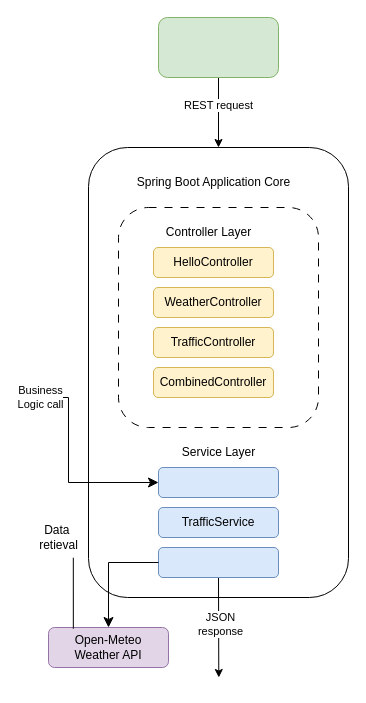
The diagram is 366 pixels wide and 703 high, and some of its shapes have lost their labels. Here are the shapes that lost their labels. From the top down, the box of each, then its label:
(158, 16, 278, 78): User/Frontend
(158, 466, 278, 498): WeatherService
(158, 546, 278, 578): CorrelationService
